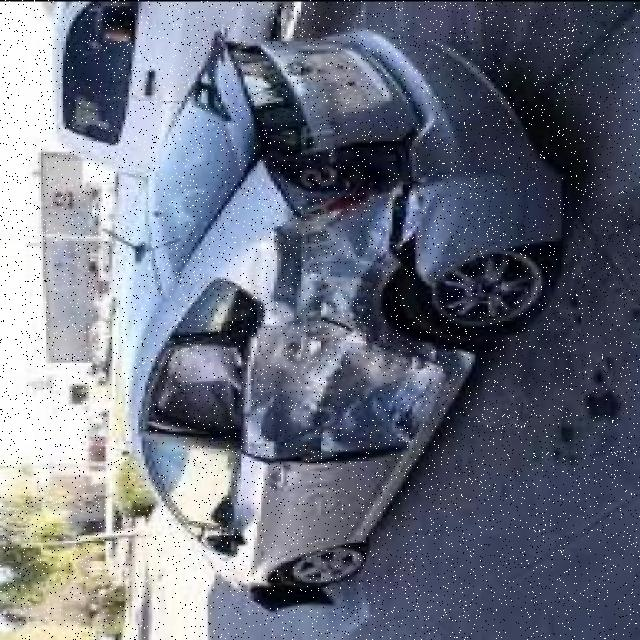damage: (236, 166, 479, 468), (234, 576, 343, 617)
